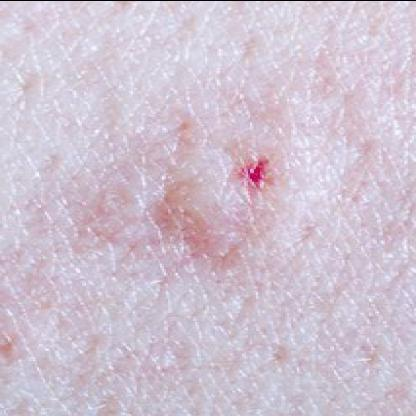Wasp: (152, 113, 302, 268)
